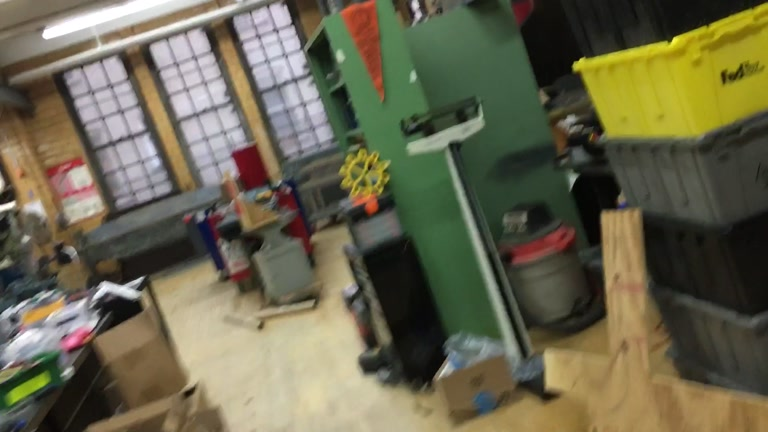gear: (337, 146, 390, 199)
